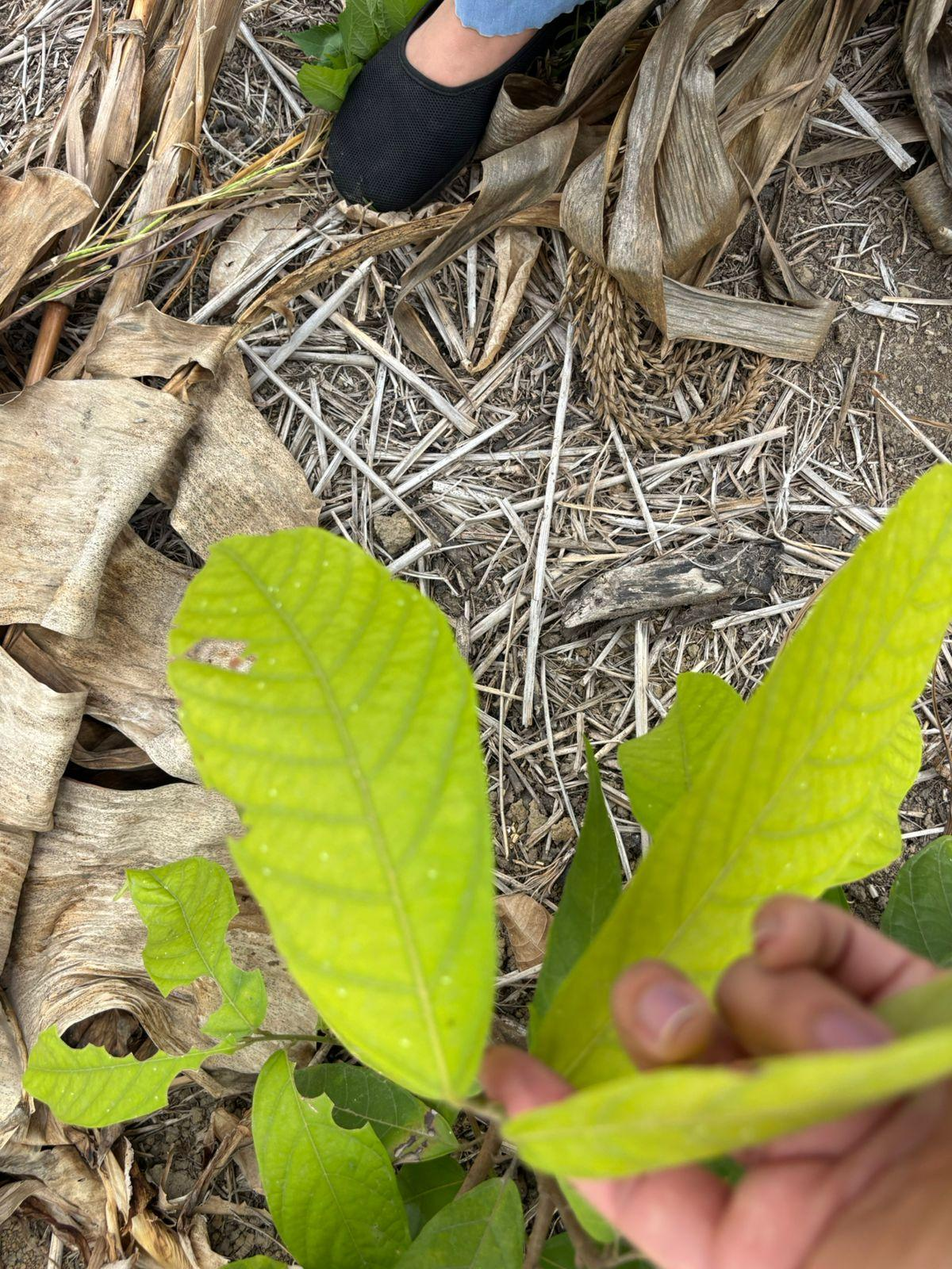deficiencia_nitrogeno: (539, 470, 951, 1088), (169, 528, 496, 1100)
